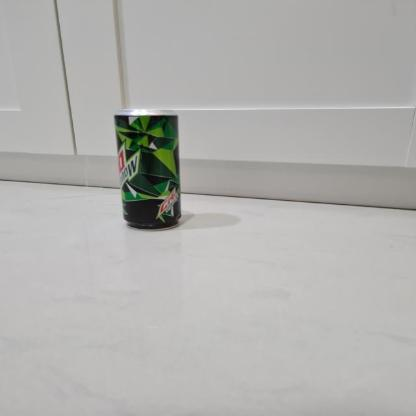Can: (113, 109, 188, 232)
